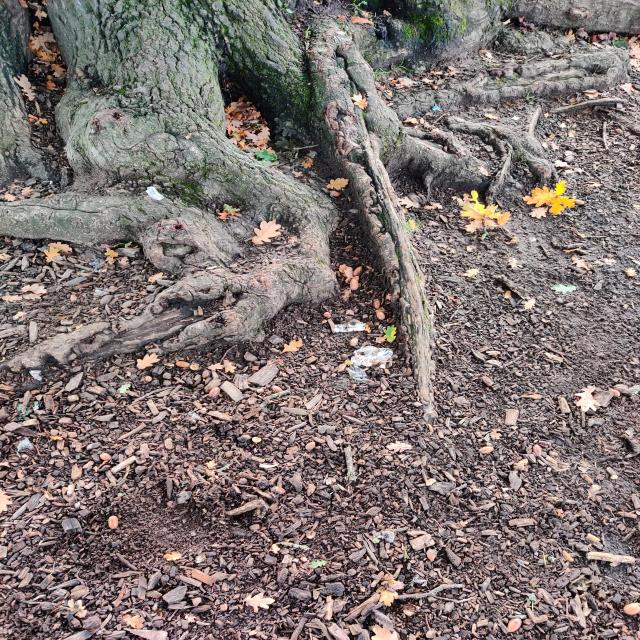litter: (347, 349, 395, 384)
